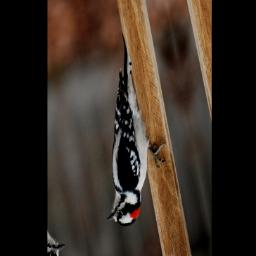Woodpecker: (76, 23, 176, 238)
